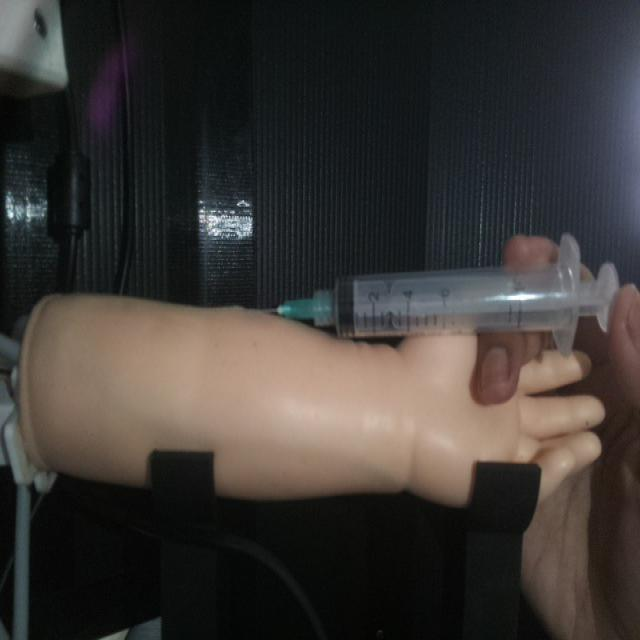Outside: (248, 229, 621, 356)
